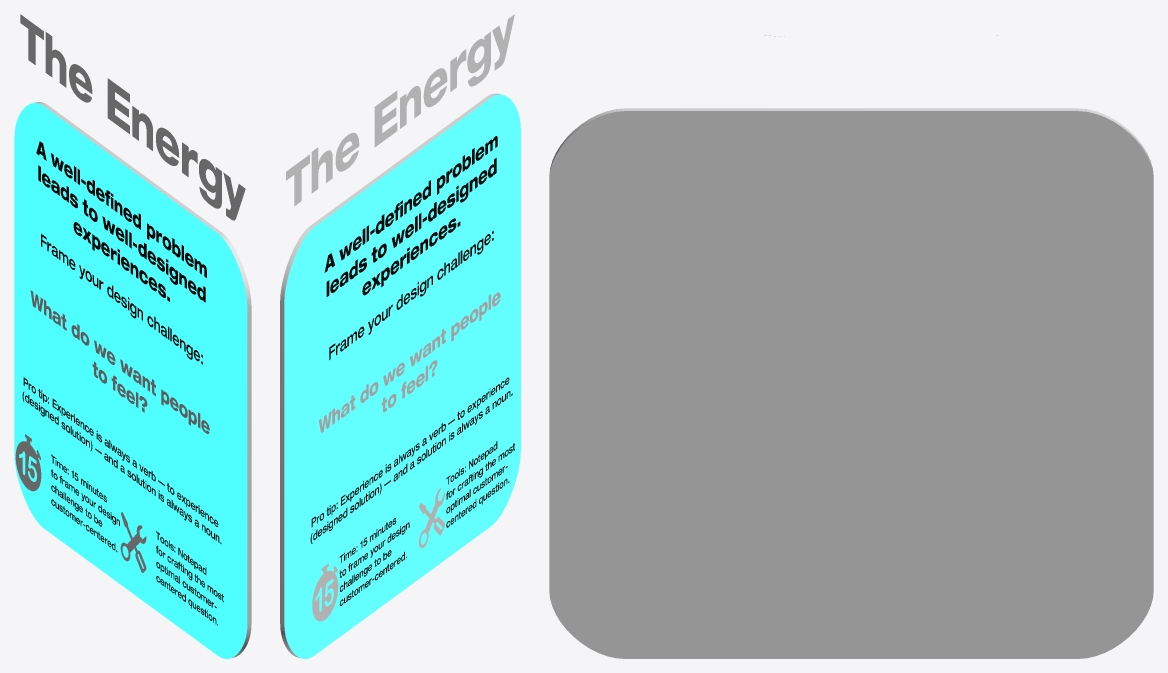
The picture shows the model from 3 angles, left to right: view 1: azimuth 30°, elevation 25°; view 2: azimuth 150°, elevation 25°; view 3: azimuth 270°, elevation 25°; orthographic projection. The views are drawn at different scales.
Visible parts, largest first — view 1: dd.005, dd.003, dd, dd.004, Text, xx.004, Text.001; view 2: dd.005, dd.003, dd, dd.004, Text, xx.004, Text.001; view 3: dd.005.
Boxes of the visible parts, bbox=[...] form: dd.005: bbox=[14, 102, 251, 658]; dd.003: bbox=[22, 141, 221, 543]; dd: bbox=[20, 14, 245, 220]; dd.004: bbox=[41, 234, 202, 551]; Text: bbox=[30, 290, 209, 433]; xx.004: bbox=[15, 434, 146, 572]; Text.001: bbox=[156, 531, 223, 625]; dd.005: bbox=[280, 93, 520, 658]; dd.003: bbox=[310, 136, 512, 543]; dd: bbox=[286, 14, 514, 205]; dd.004: bbox=[329, 231, 493, 605]; Text: bbox=[318, 292, 500, 432]; xx.004: bbox=[312, 488, 444, 621]; Text.001: bbox=[446, 441, 514, 527]; dd.005: bbox=[549, 108, 1153, 658].
Bounding box in the file's own units: 0.2525 × 6.94 × 5.9.
